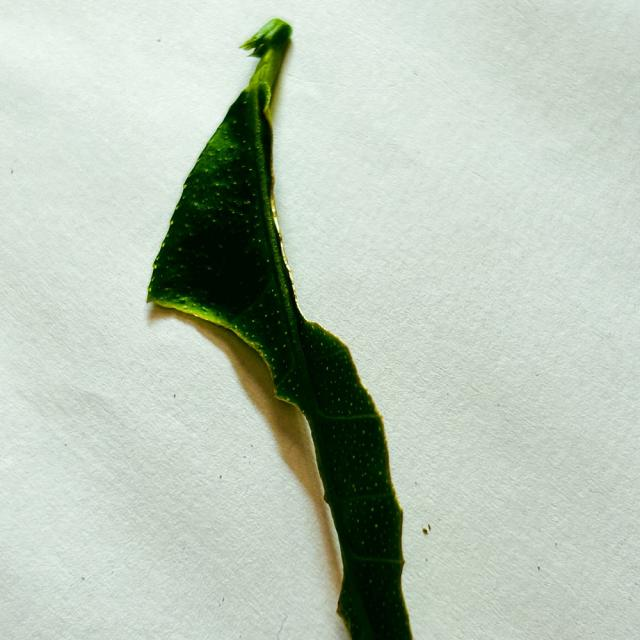Deficiency Leaf: (157, 316, 344, 606), (264, 48, 375, 411)
Lemon: (148, 19, 412, 639)
